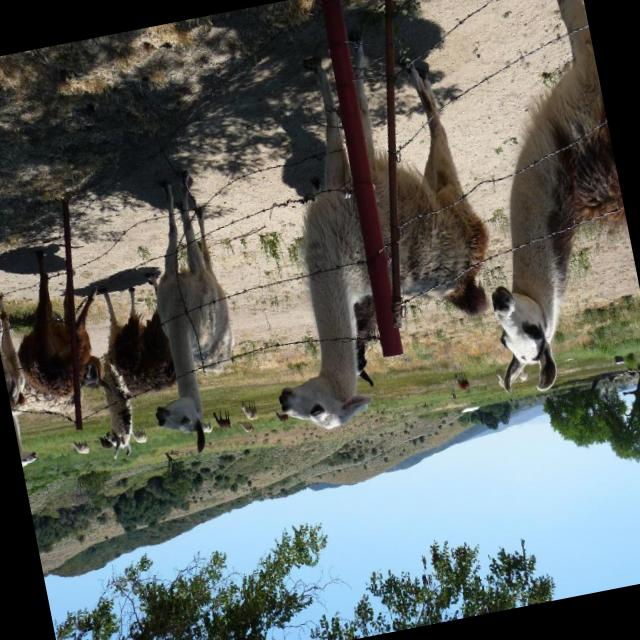alpaca: (215, 22, 520, 438), (423, 0, 640, 397), (112, 168, 256, 461), (74, 264, 192, 458), (0, 244, 114, 411), (0, 279, 78, 418), (12, 412, 42, 469), (450, 370, 476, 400), (211, 406, 236, 435), (130, 424, 152, 451), (238, 398, 259, 424), (70, 436, 92, 459), (274, 406, 291, 428), (240, 420, 258, 439)
